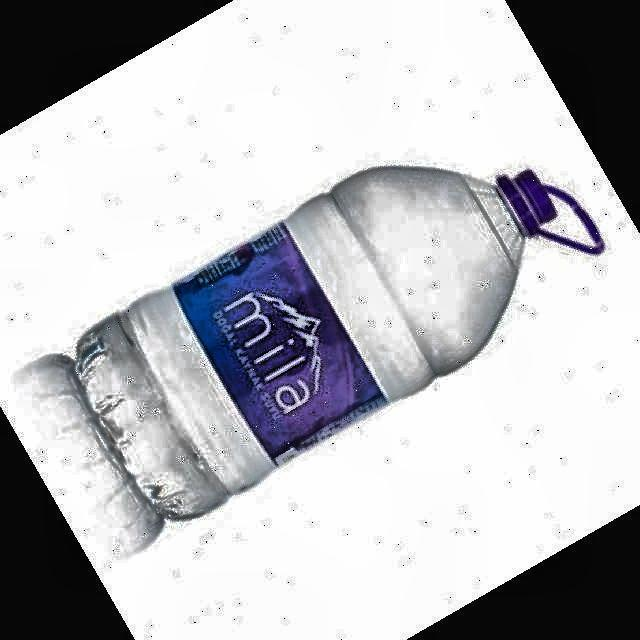plastic: (75, 169, 604, 517)
